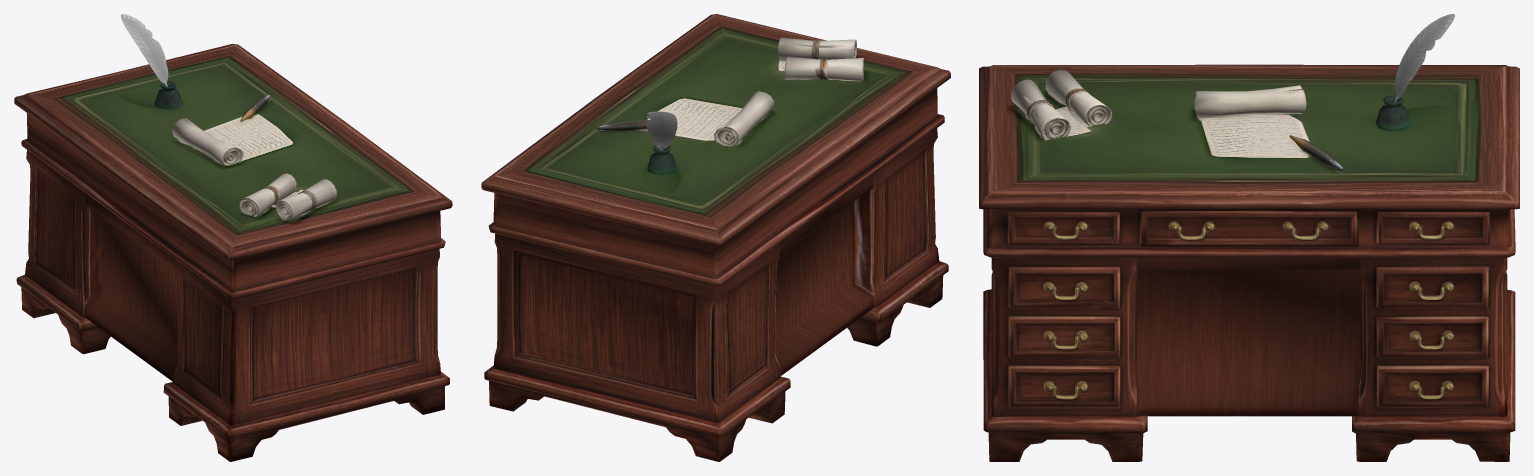
File: SM_Env_BaskervillePartnersDesk.fbx
3 views of the same model, side by side, from view 1: azimuth 30°, elevation 25°; view 2: azimuth 150°, elevation 25°; view 3: azimuth 270°, elevation 25° (orthographic). The views are drawn at different scales.
Parts seen in each view (by area): view 1: SM_Env_BaskervillePartnersDesk; view 2: SM_Env_BaskervillePartnersDesk; view 3: SM_Env_BaskervillePartnersDesk.
Boxes of the visible parts, <box> form: SM_Env_BaskervillePartnersDesk: <box>14,14,452,461</box>; SM_Env_BaskervillePartnersDesk: <box>481,14,950,461</box>; SM_Env_BaskervillePartnersDesk: <box>979,14,1519,461</box>.
Bounding box in the file's own units: 19.36 × 32.3 × 24.
1 material, 1 textured.
